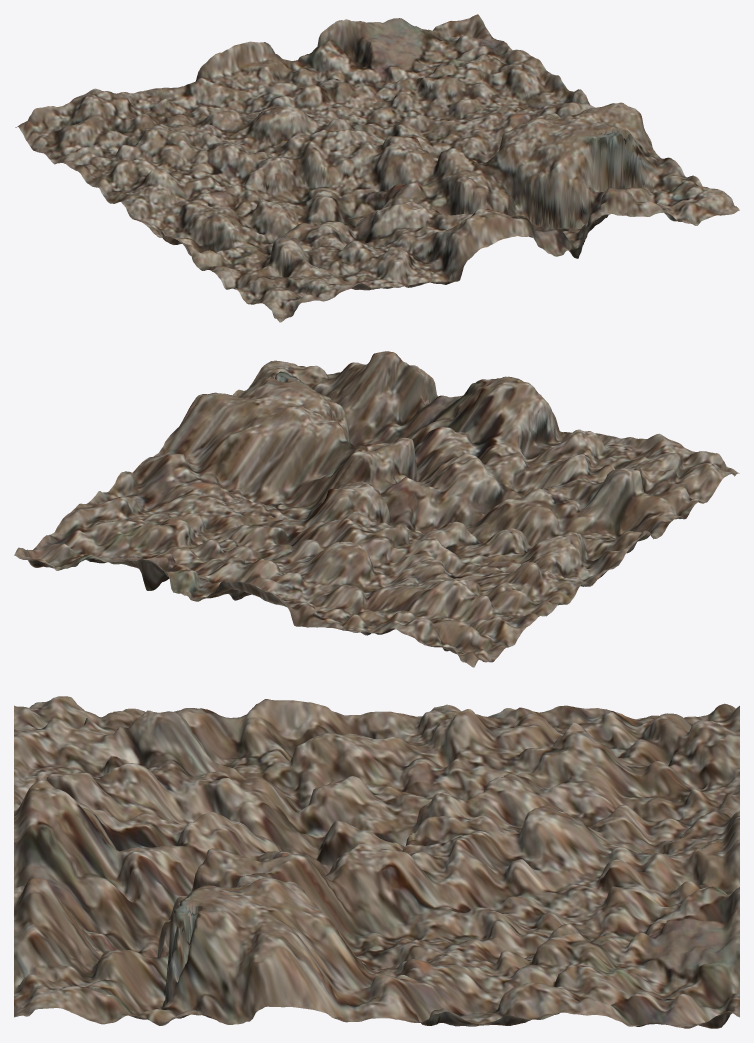
File: 草泥样块.glb
3 views of the same model, one above another, from view 1: azimuth 30°, elevation 25°; view 2: azimuth 150°, elevation 25°; view 3: azimuth 270°, elevation 25° (orthographic). The views are drawn at different scales.
Size of the model in its own units: 0.096 by 0.015 by 0.096.
Materials: 1 (1 with a texture image).
